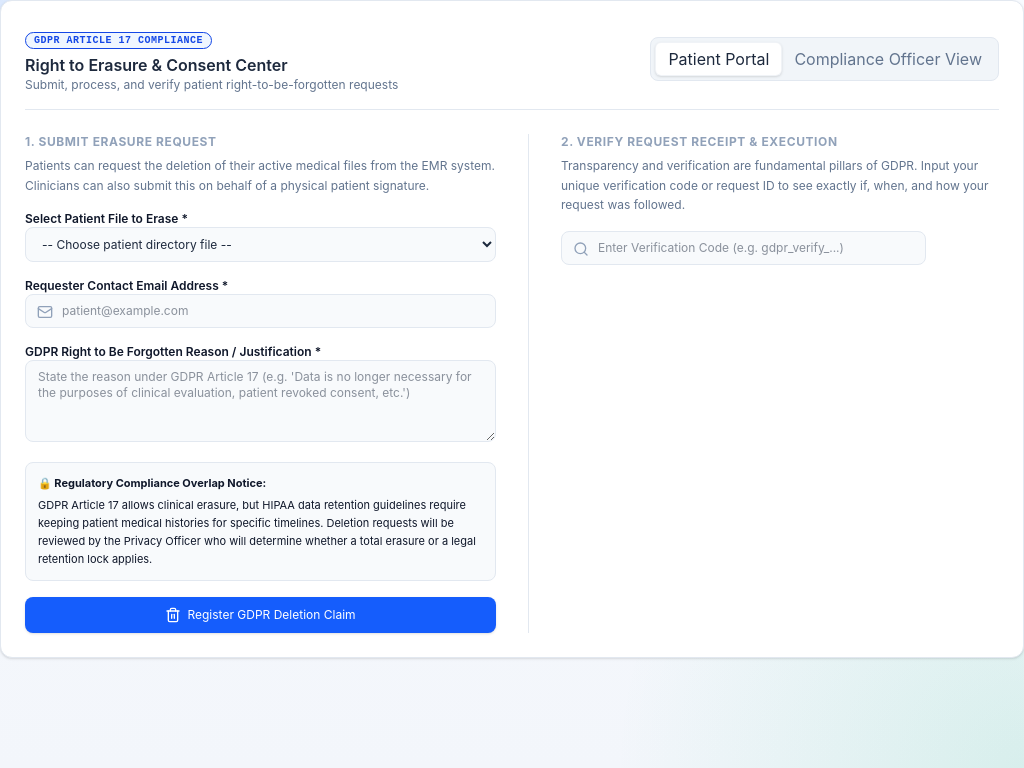
it: GDPRManager erasure submission › surfaces the compliance server rejection message
Step 1. Select "Amanda Parker (ID: pat_1, Born: 1984-02-11)" in the dropdown → [260, 244], box [25, 227, 496, 262]
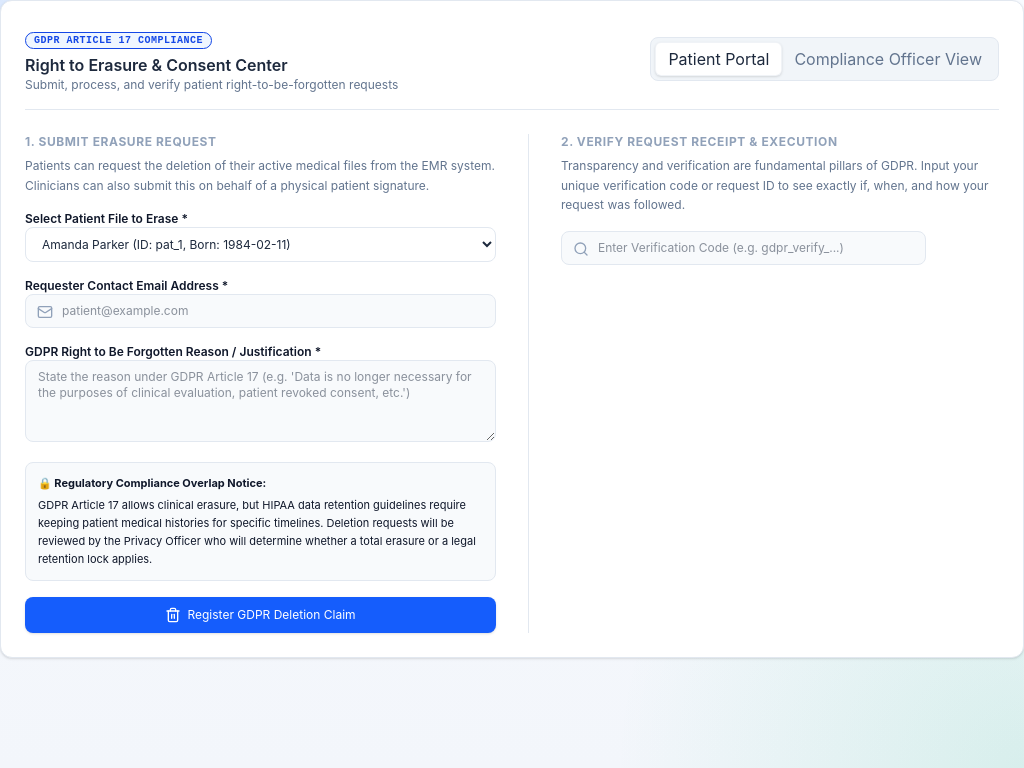
Step 2. Type "amanda@example.com" into the field with placeholder "patient@example.com" → [260, 311], box [25, 294, 496, 328]
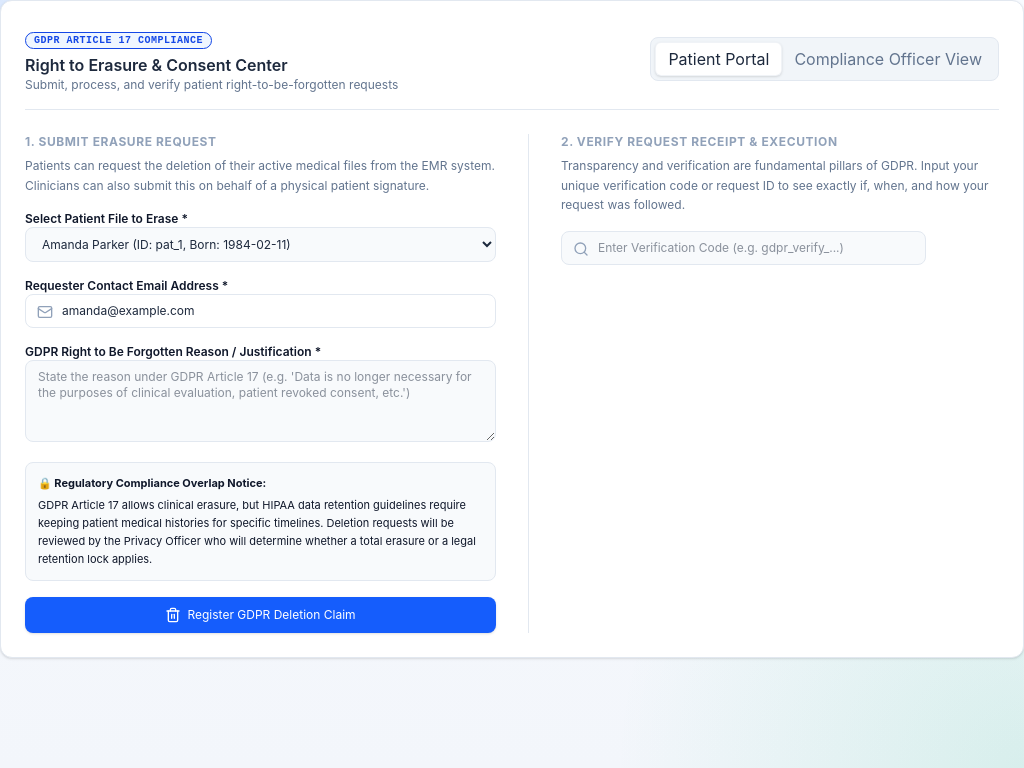
Step 3. Type "Consent revoked" into the text box with placeholder "State the reason under GDPR Article 17" → [260, 401], box [25, 360, 496, 442]
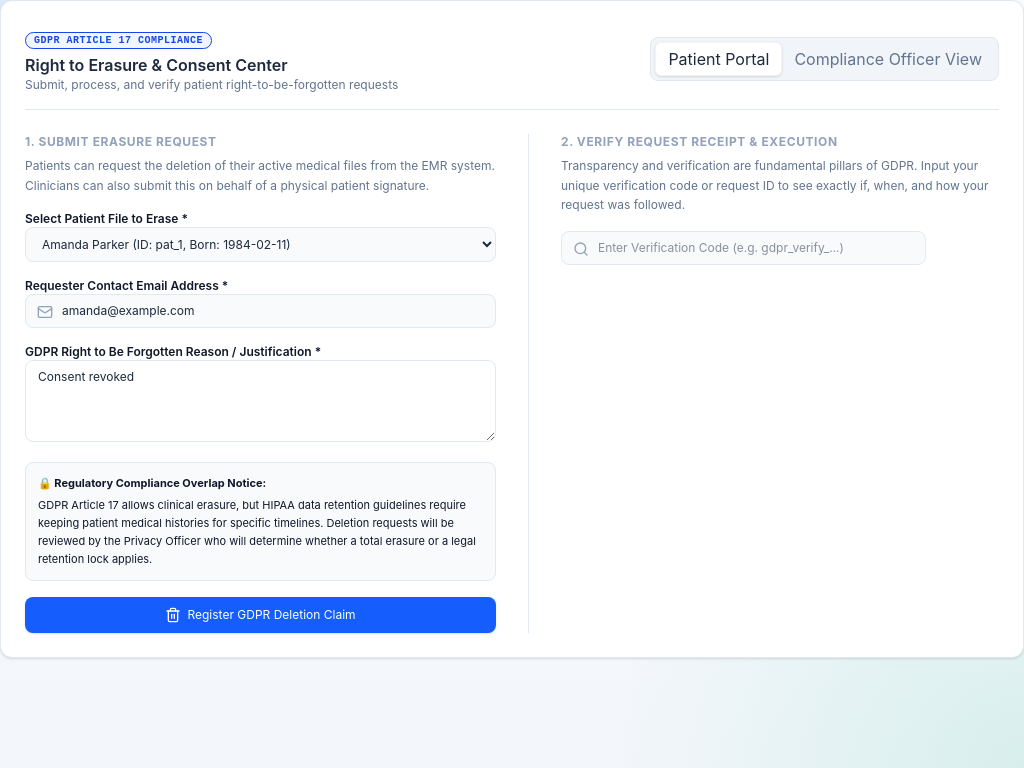
Step 4. Click the button "Register GDPR Deletion Claim" → [260, 615], box [25, 597, 496, 633]
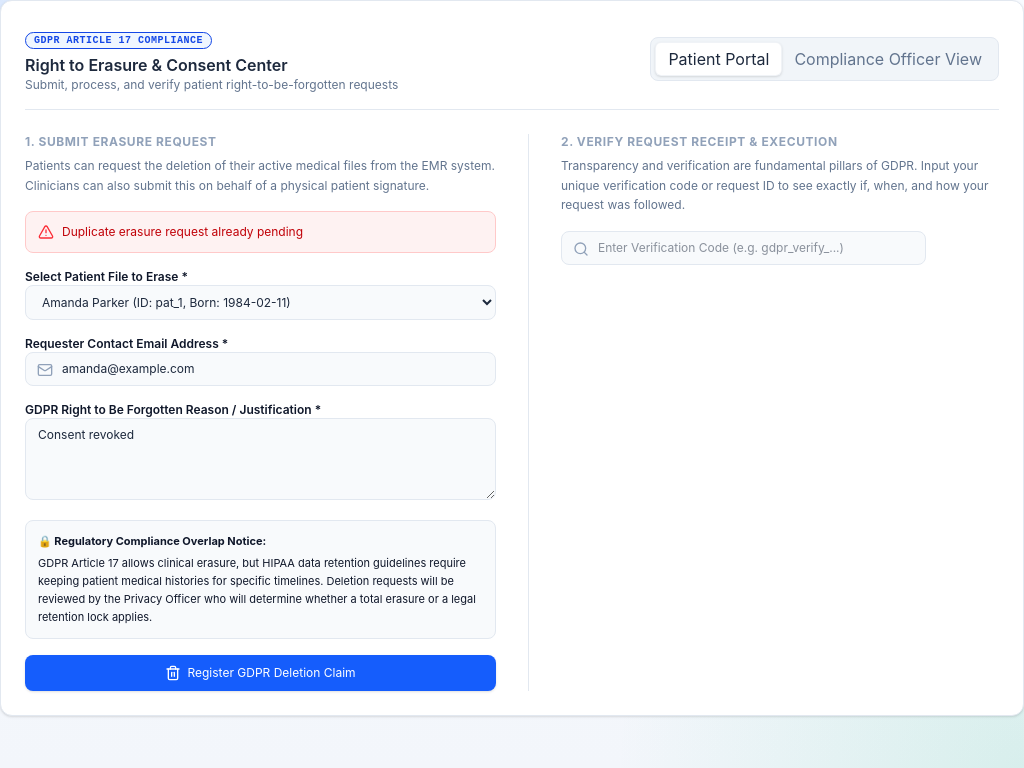
Expected: the text "Duplicate erasure request already pending" is shown, [62, 224, 303, 240]
